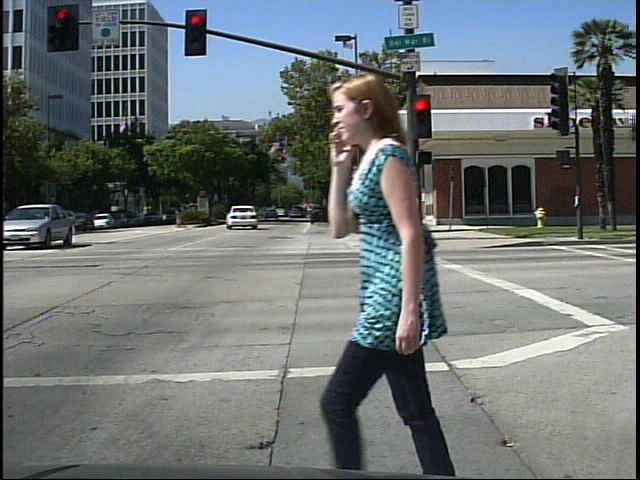person: (308, 61, 496, 480)
